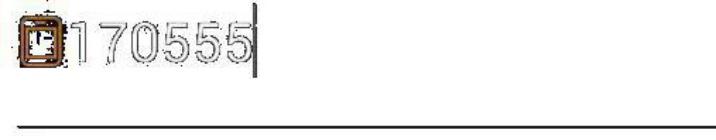EditText: (1, 1, 715, 139)
